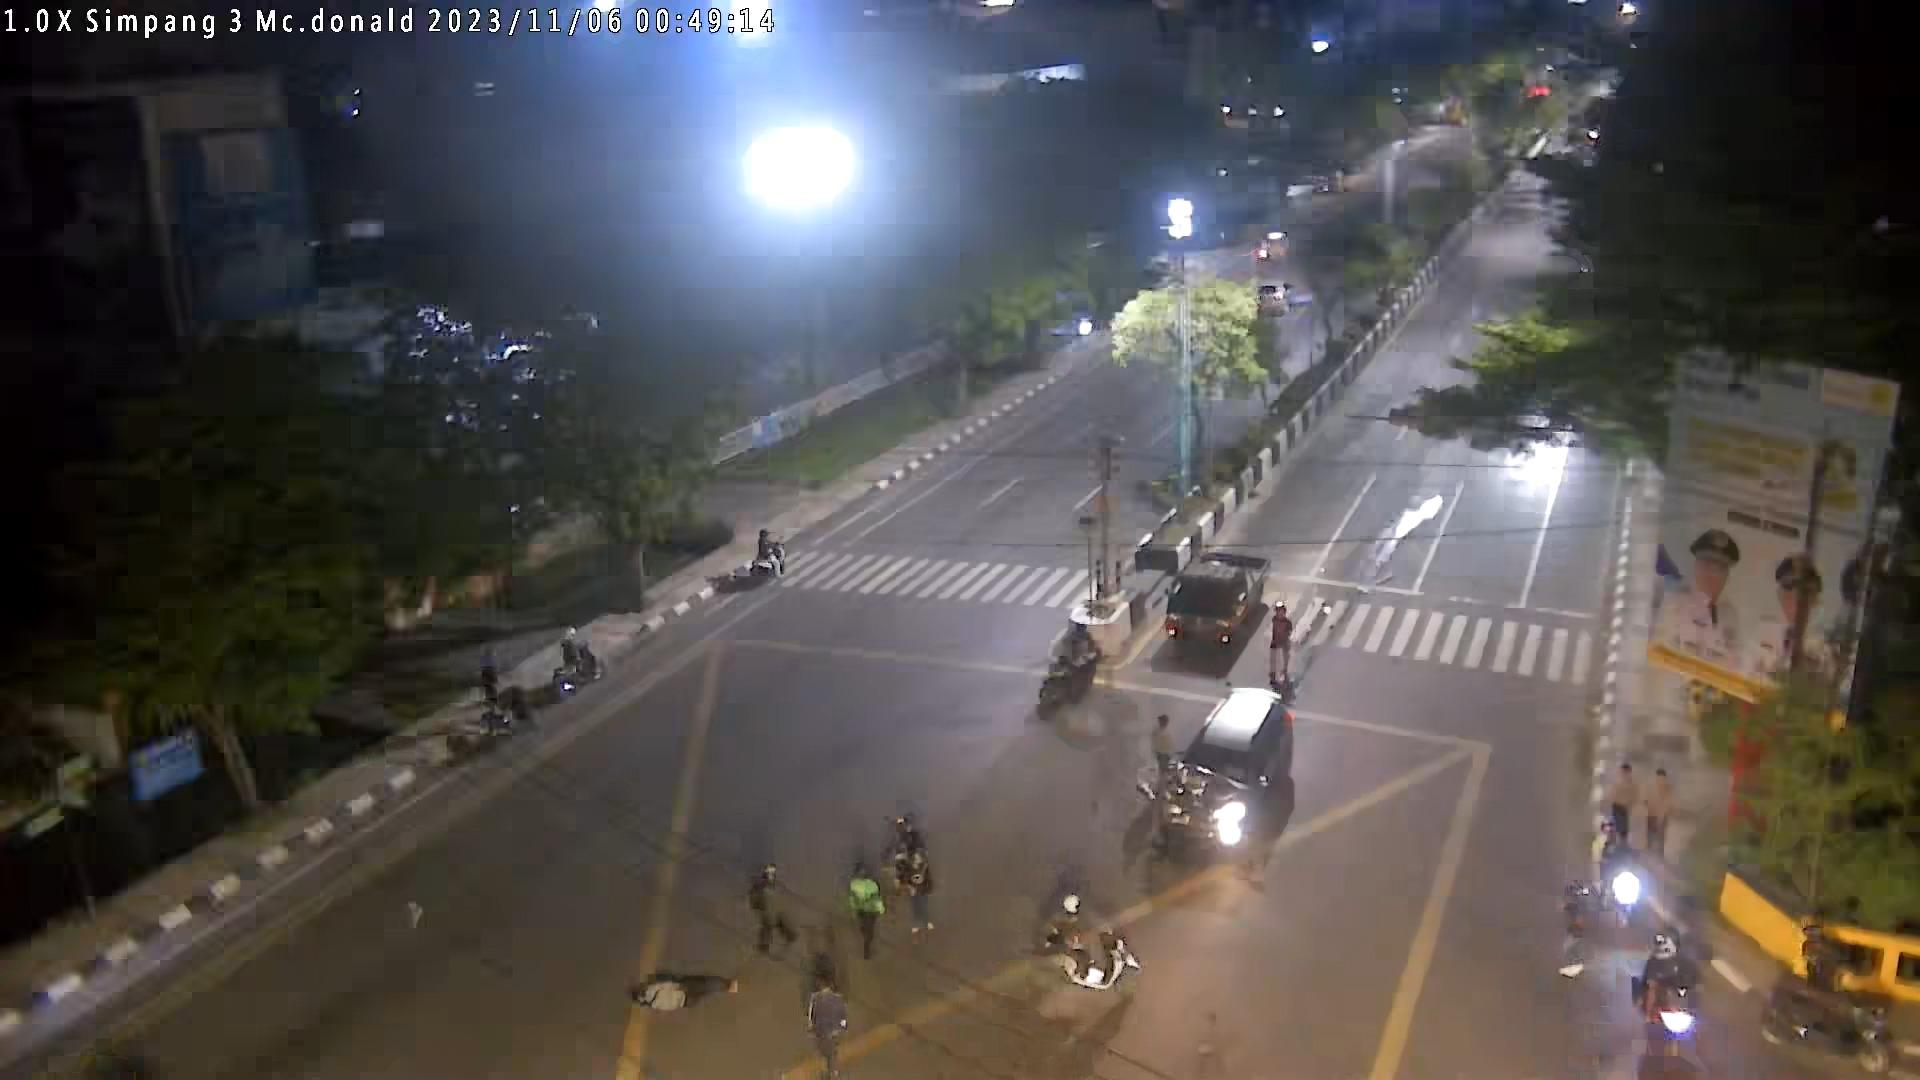accident: (629, 968, 737, 1010)
